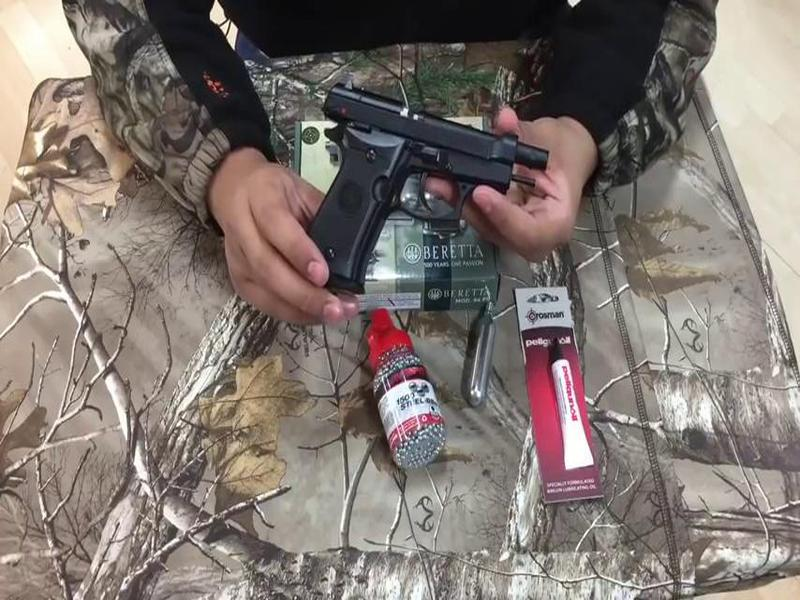Pistola: (277, 77, 575, 304)
